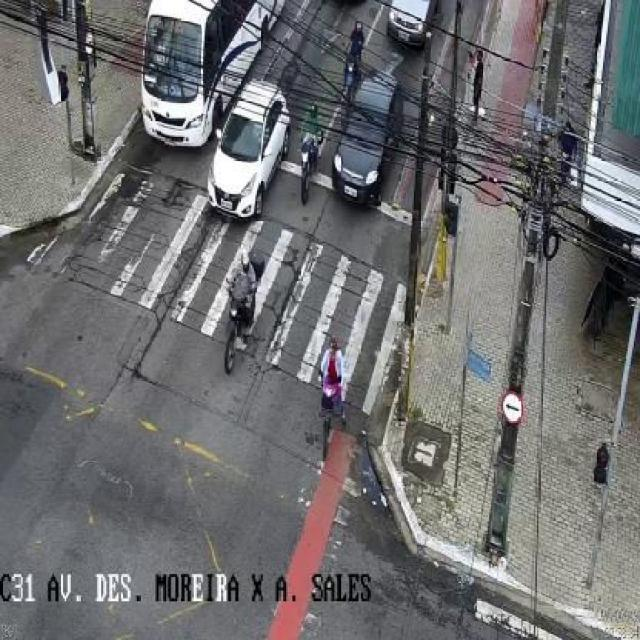Bus: (106, 0, 288, 164)
Car: (198, 80, 290, 231), (329, 72, 411, 207), (375, 0, 451, 56)
Cycle: (222, 233, 278, 360), (317, 334, 360, 448), (327, 1, 379, 95), (286, 89, 334, 188)
